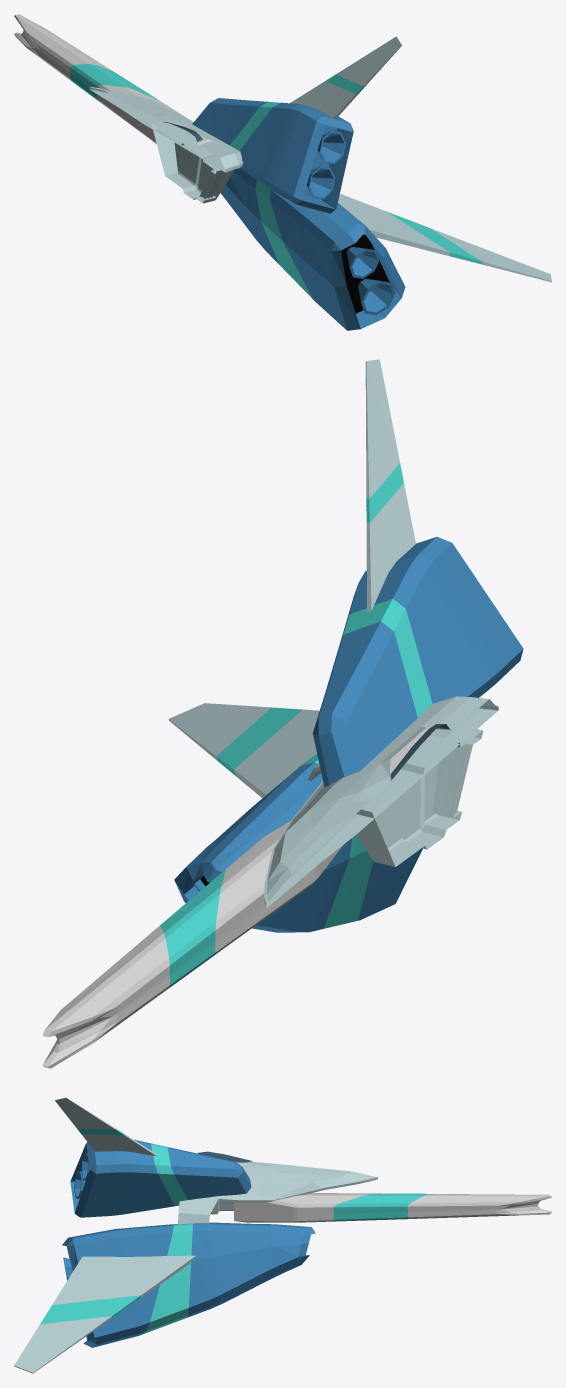
Rendered from fighter_lined.dae.
3 renders of one model, top to bottom at view 1: azimuth 30°, elevation 25°; view 2: azimuth 150°, elevation 25°; view 3: azimuth 270°, elevation 25°, orthographic. The views are drawn at different scales.
Parts seen in each view (by area): view 1: Cube; view 2: Cube; view 3: Cube.
Part boxes in pixels (box(x1,y1,x2,y2)): Cube: box(14, 14, 551, 330); Cube: box(42, 359, 523, 1068); Cube: box(14, 1097, 551, 1373).
Bounding box in the file's own units: 2.66 × 5.59 × 2.94.
